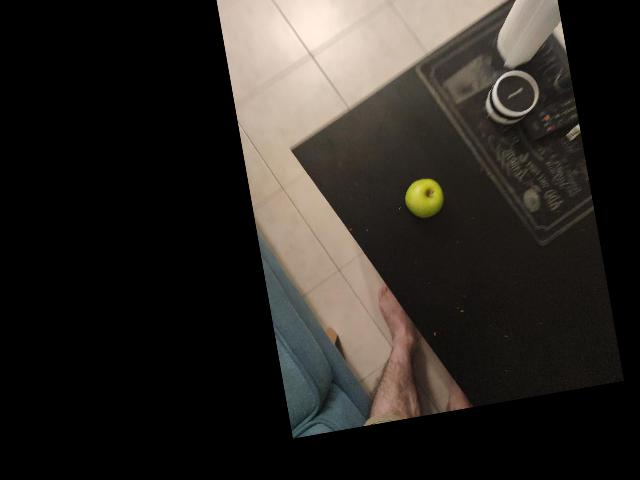apple: (306, 119, 373, 187)
